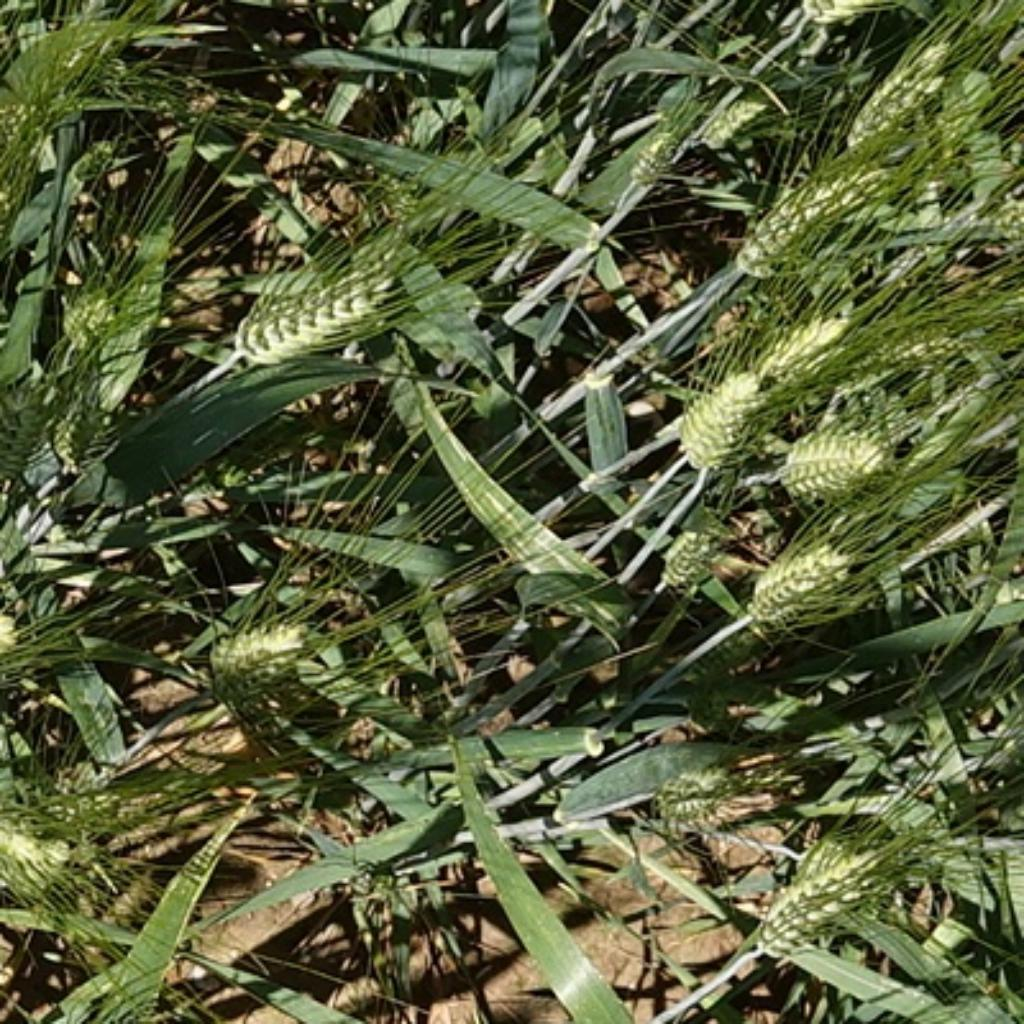0-0: (741, 838, 899, 976), (740, 157, 887, 280), (832, 30, 953, 160), (219, 275, 387, 362), (196, 605, 327, 716), (768, 399, 898, 501), (742, 524, 860, 624), (739, 299, 858, 388), (0, 82, 70, 218), (676, 369, 769, 470), (641, 762, 761, 839), (48, 279, 148, 363), (0, 770, 74, 880), (0, 378, 61, 496), (48, 386, 128, 475), (656, 515, 723, 597), (621, 114, 693, 186), (701, 82, 778, 143), (12, 1021, 112, 1024)
